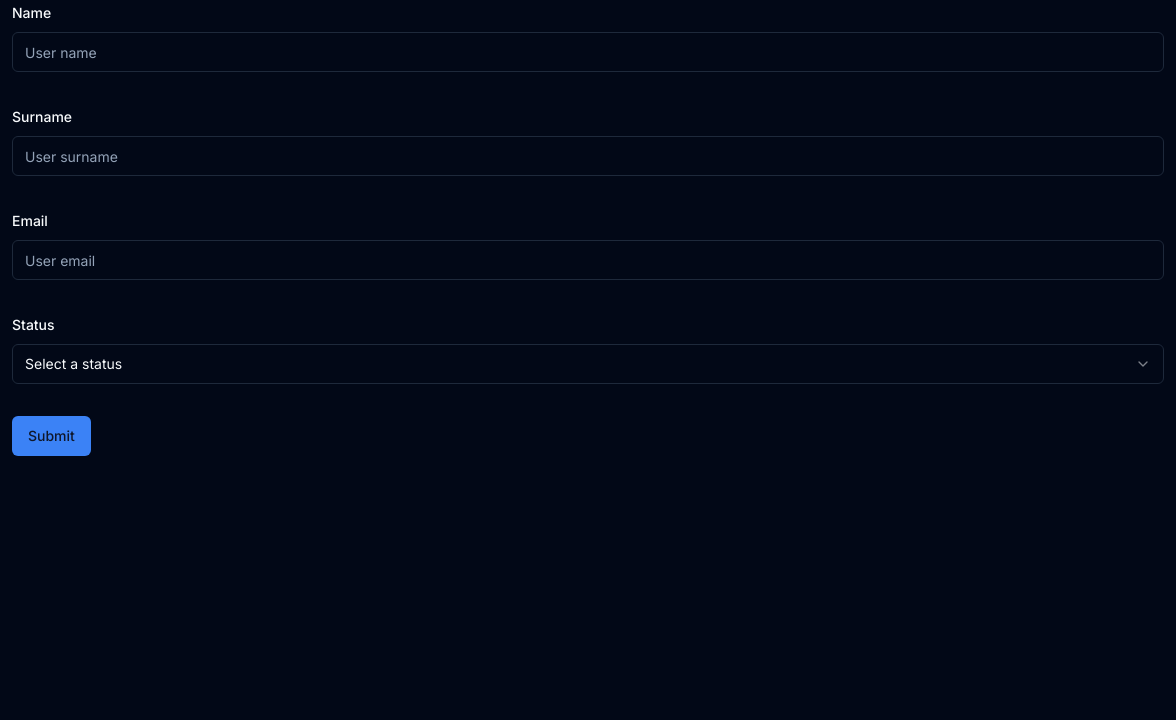
Client Form › shows errors when trying to sumbit without required fields
Click the button "Submit": click(51, 436) [12,416,91,456]
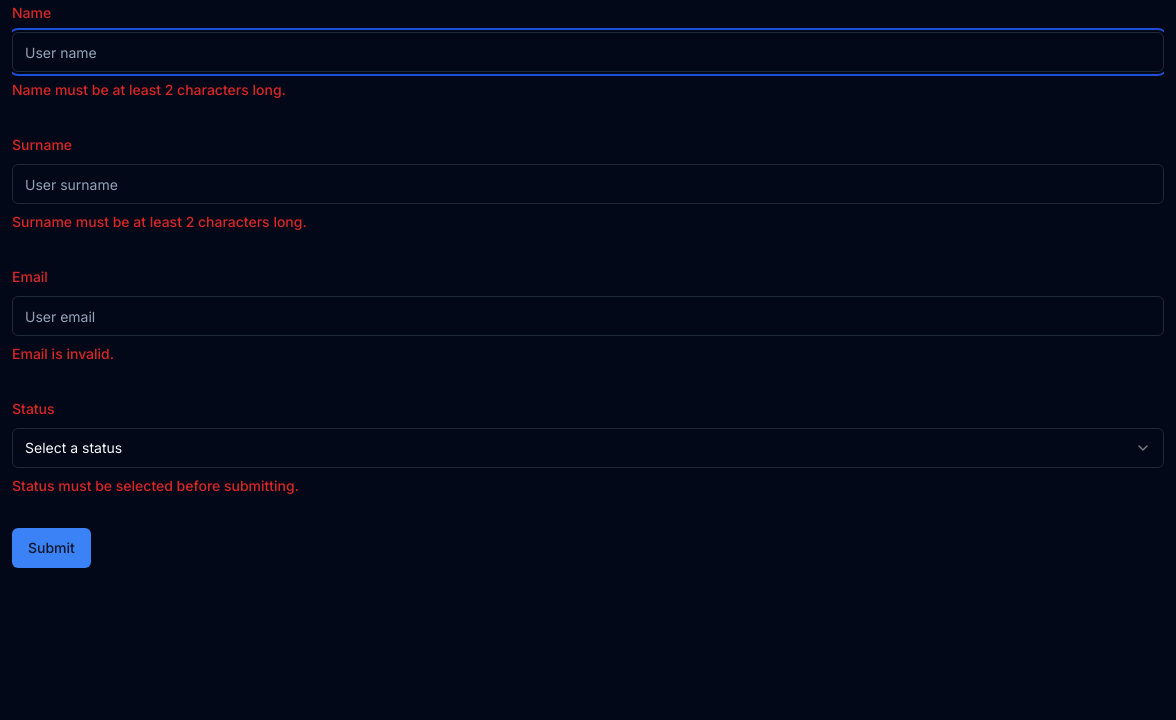
Now the text "Surname must be at least 2 characters long." is shown, box [12,213,307,230]
Now the text "Name must be at least 2 characters long." is shown, box [12,81,286,98]
Now the text "Status must be selected before submitting." is shown, box [12,477,299,494]
